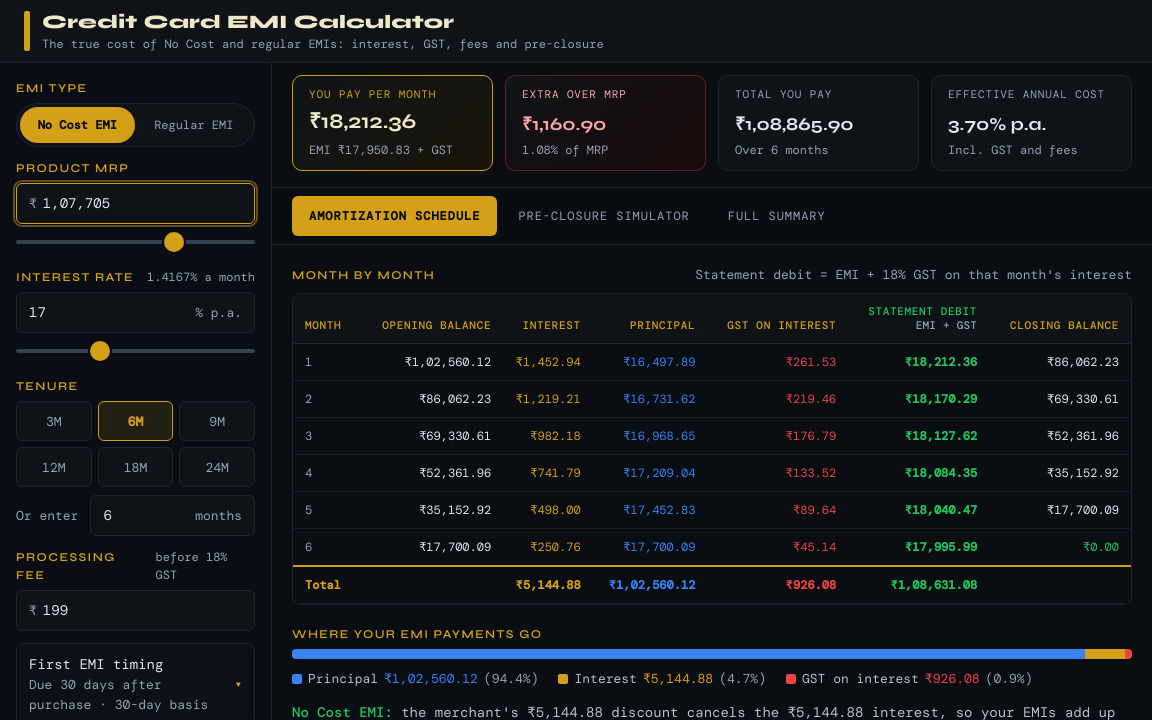
number fields keep the user's draft › explains a below-minimum value while typing instead of ignoring it
The width and height of the screenshot is (1152, 720).
Replace the text in the field named "Product MRP (₹)" with "500" at (142, 204), box x1=43 y1=184 x2=242 y2=223
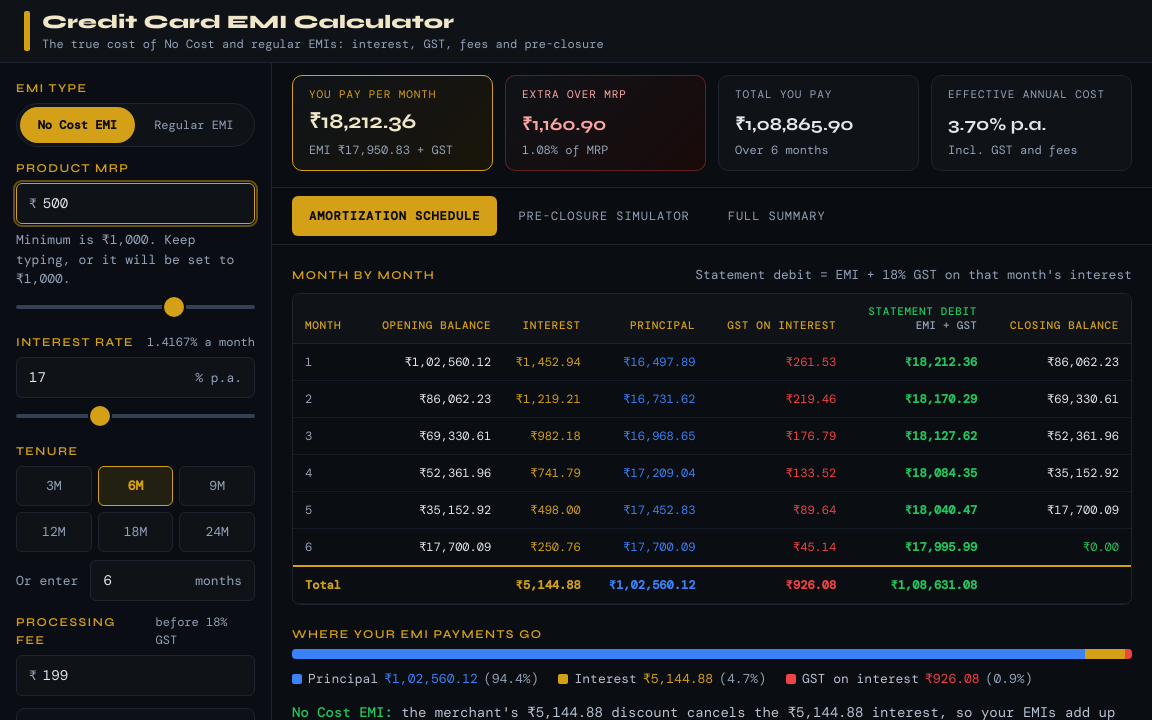
Check: the text "Minimum is ₹1,000. Keep typing, or it will be set to ₹1,000." is shown, box x1=16 y1=230 x2=255 y2=289
Replace the text in the field named "Product MRP (₹)" with "5000" at (142, 204), box x1=43 y1=184 x2=242 y2=223
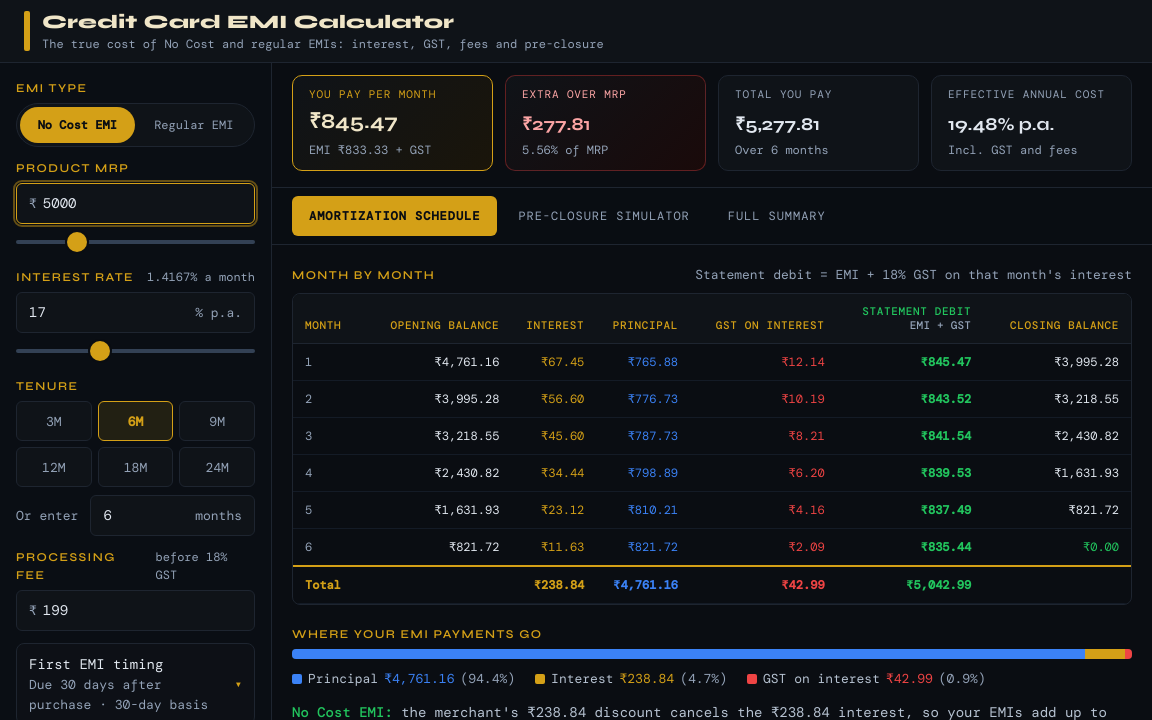
Check: the text "Minimum is ₹1,000" is gone
